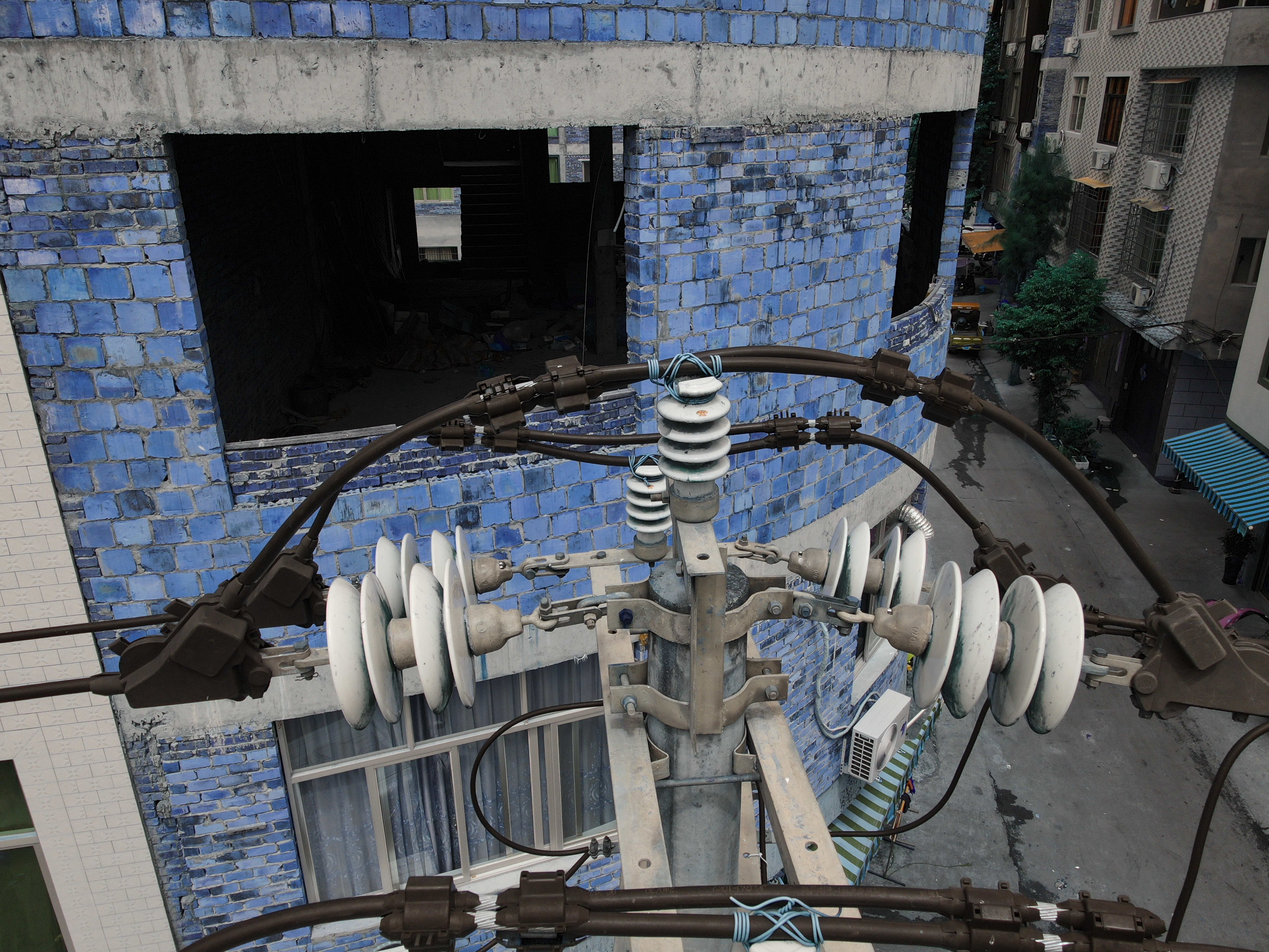severe_soiling_no_discharge_whole: (869, 554, 1086, 737), (326, 556, 524, 731), (786, 510, 929, 608), (651, 356, 734, 522), (370, 520, 516, 611), (620, 454, 671, 562)
